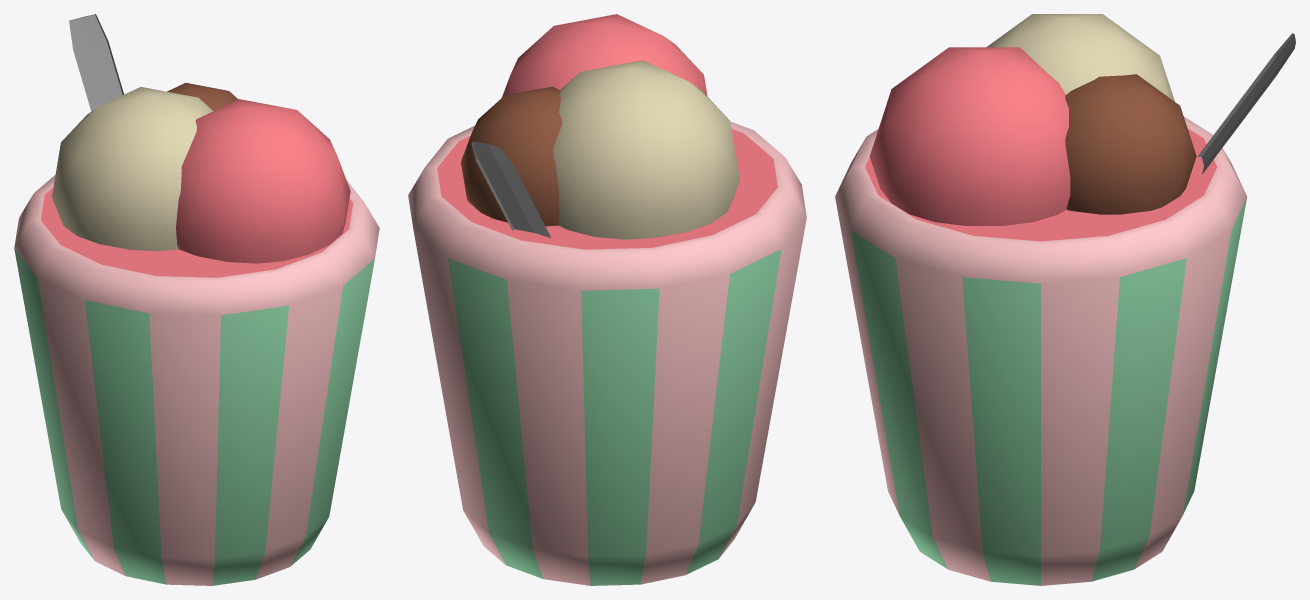
The model's file is icecream2.glb.
3 renders of one model, left to right at view 1: azimuth 30°, elevation 25°; view 2: azimuth 150°, elevation 25°; view 3: azimuth 270°, elevation 25°, orthographic. The views are drawn at different scales.
Parts seen in each view (by area): view 1: Cylinder.003; view 2: Cylinder.003; view 3: Cylinder.003.
Boxes of the visible parts, x1,y1,x2,y2 form: Cylinder.003: [14, 14, 379, 585]; Cylinder.003: [408, 14, 806, 585]; Cylinder.003: [835, 14, 1295, 585].
Bounding box in the file's own units: 0.1945 × 0.2568 × 0.2175.
1 material, 1 textured.
